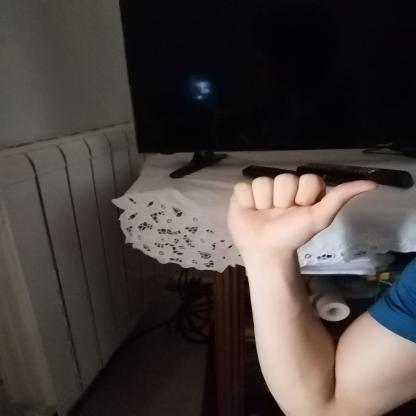DAD: (215, 166, 389, 262)
